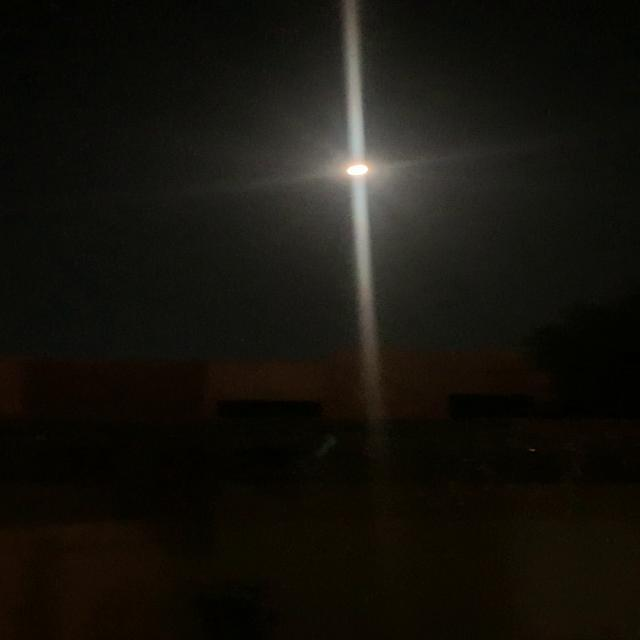moon: (326, 156, 387, 190)
